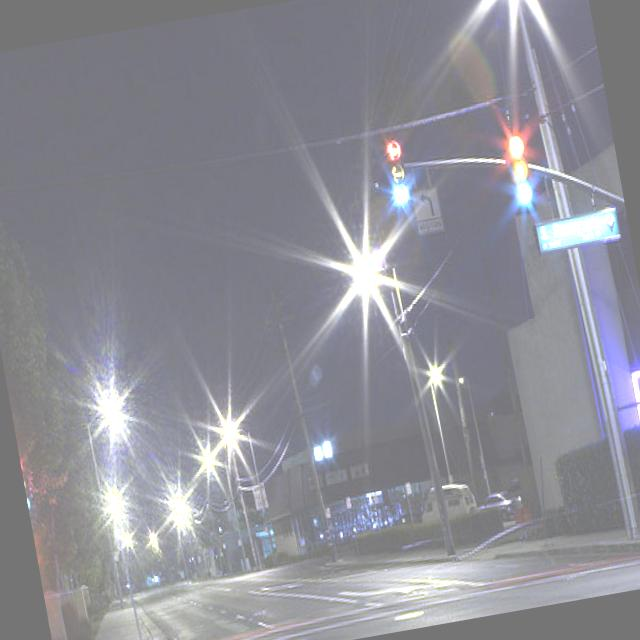Vehicle: (418, 478, 478, 526), (418, 479, 478, 524), (475, 488, 524, 524)
